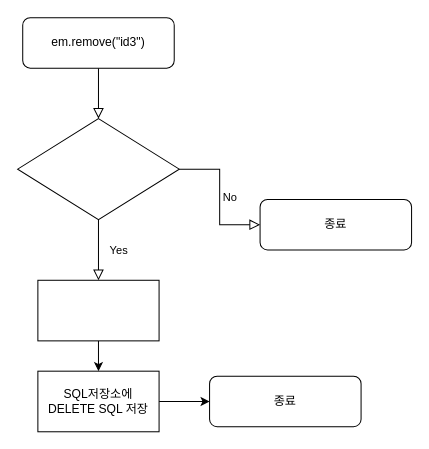
Image size: 429x449. Some labels were removed from this diagram. The shapes that lost their labels are listed below. From the top down, each one's centre as x and y in pixels, then its label:
[98,169]: 1차 캐시에 "id3"에 해당하는 entity object 有
[98,310]: 1차 캐시(+스냅샷)에서 제거
